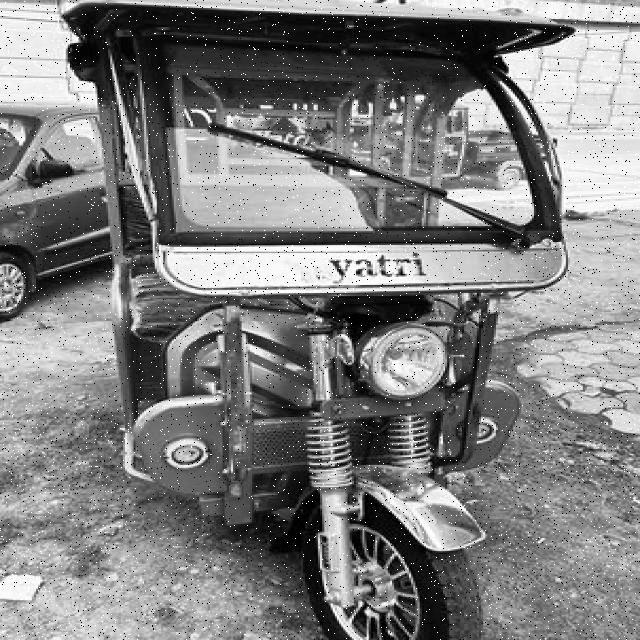Toto: (68, 0, 590, 640)
